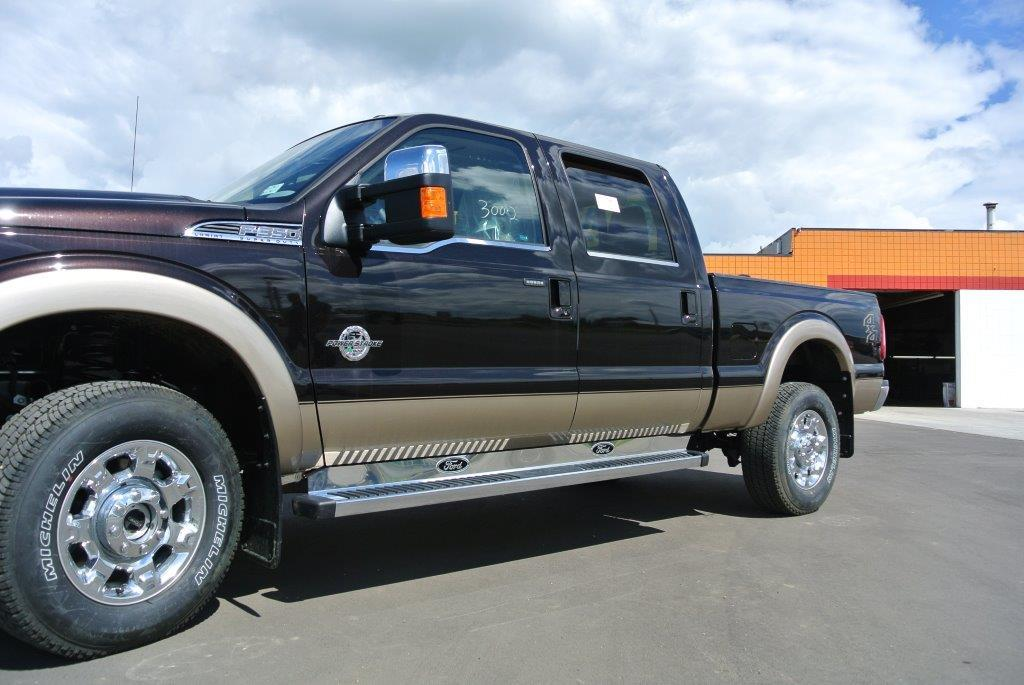Truck: (0, 95, 889, 662)
